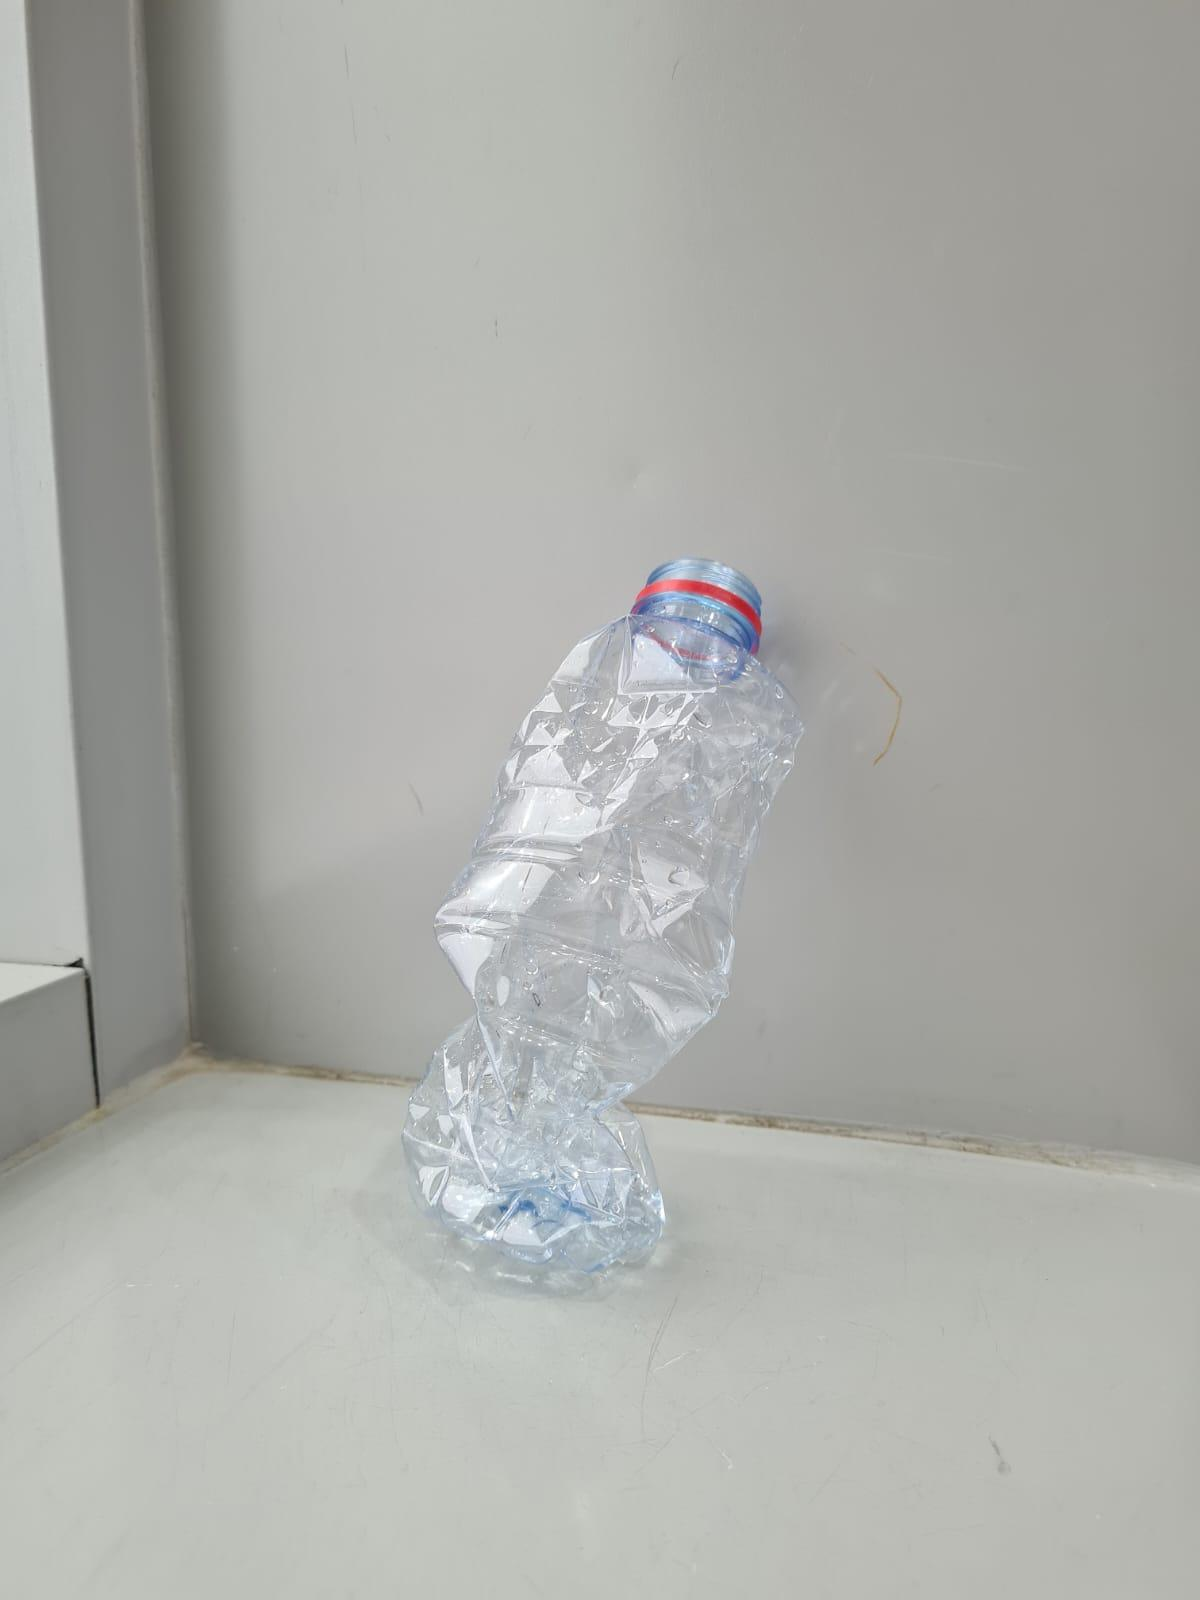bottle: (402, 561, 773, 1274)
